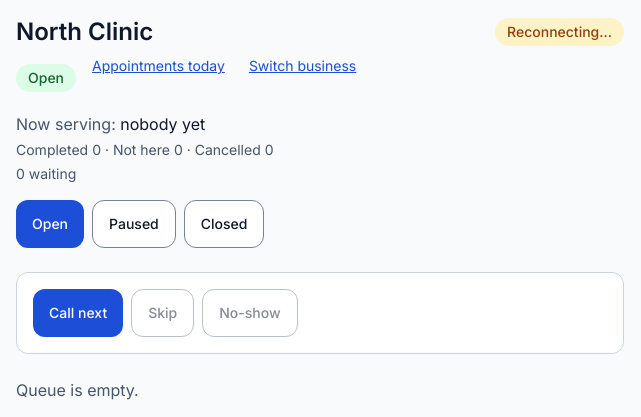
Test case: the console's requests › 204 means nobody is waiting, not an error
Expected: the heading "North Clinic" is shown, [16,16,153,48]
Click the button "Call next": x=78, y=313 [33,289,123,337]
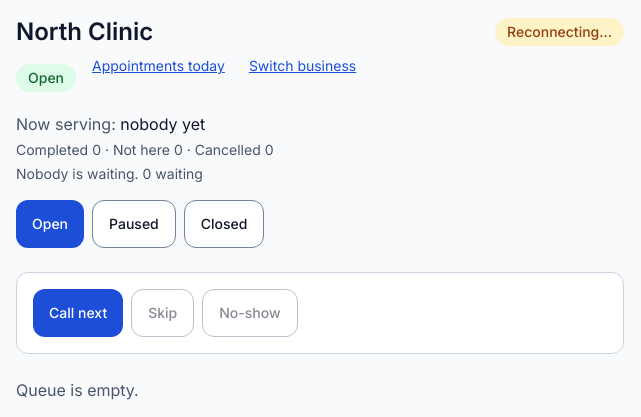
Expected: the message shows "Nobody is waiting", [16,165,143,182]
